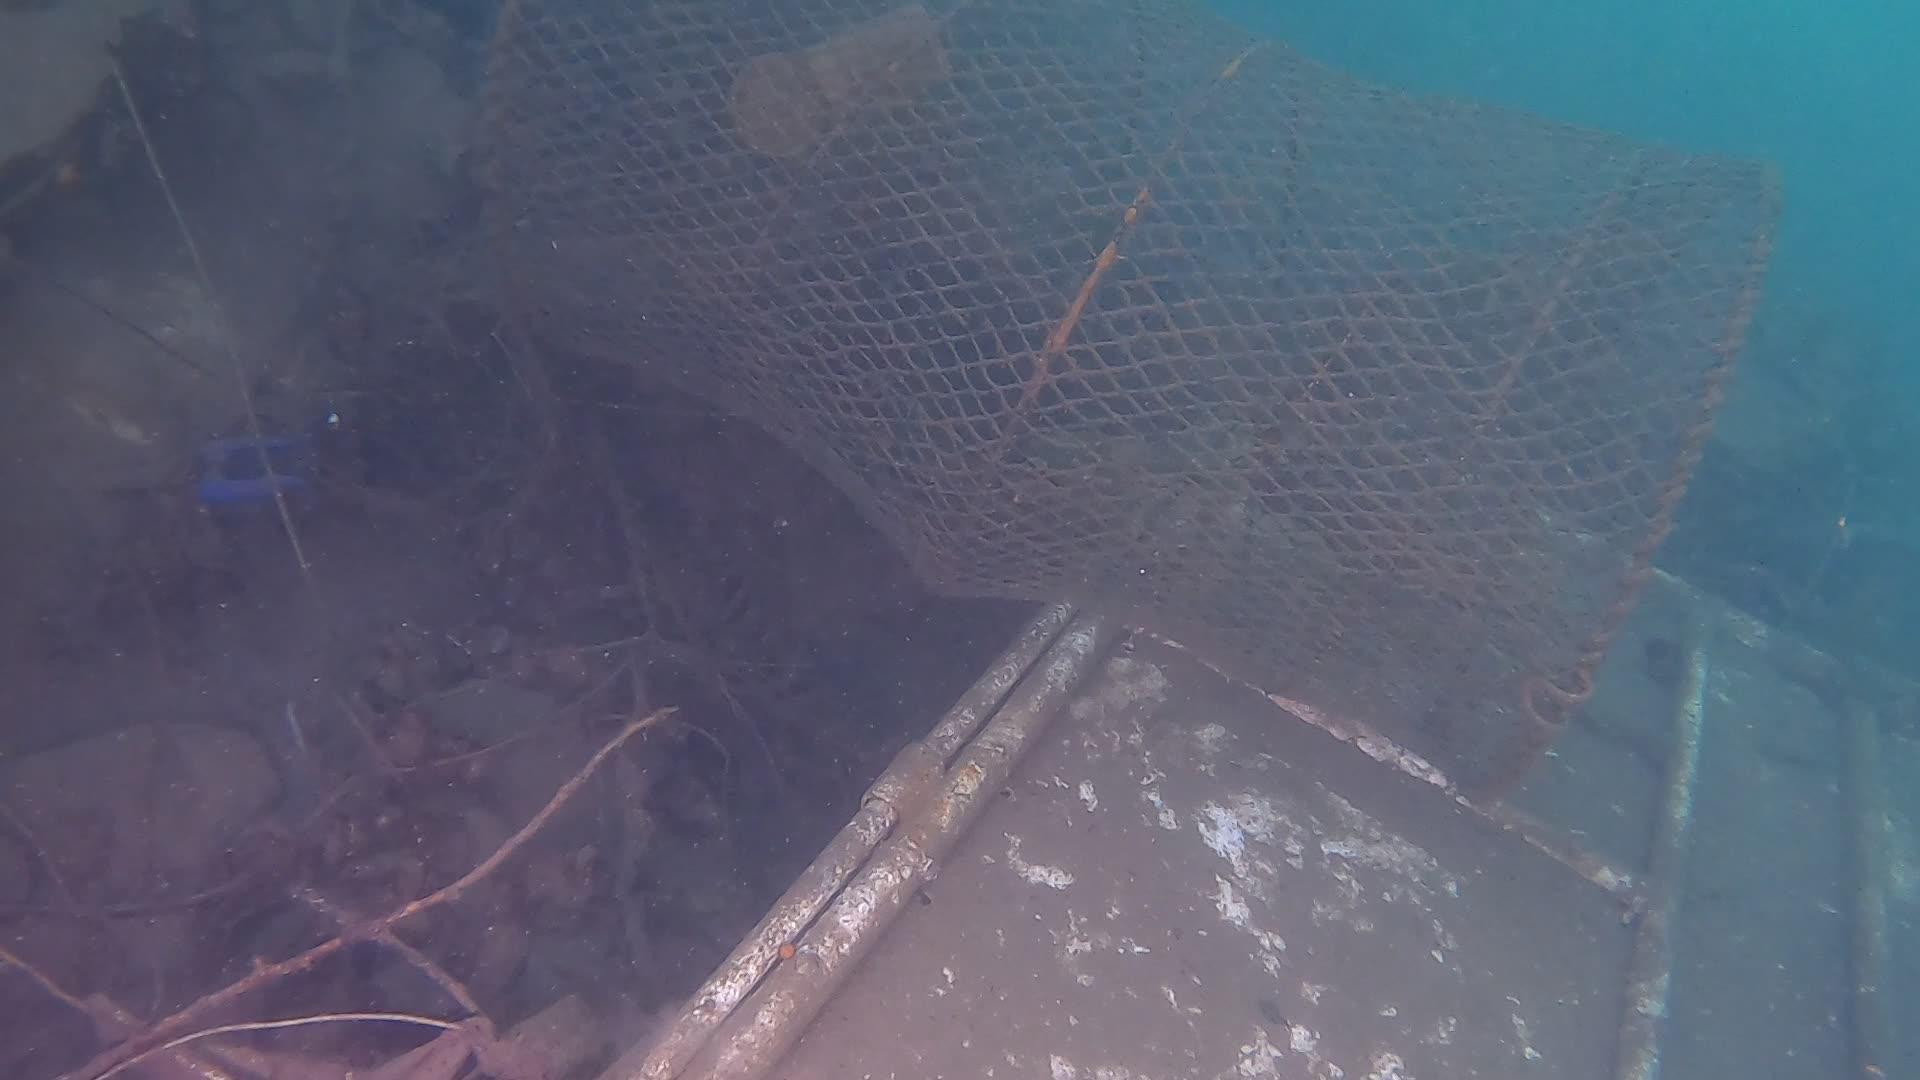spring fish trap: (469, 0, 1782, 795)
